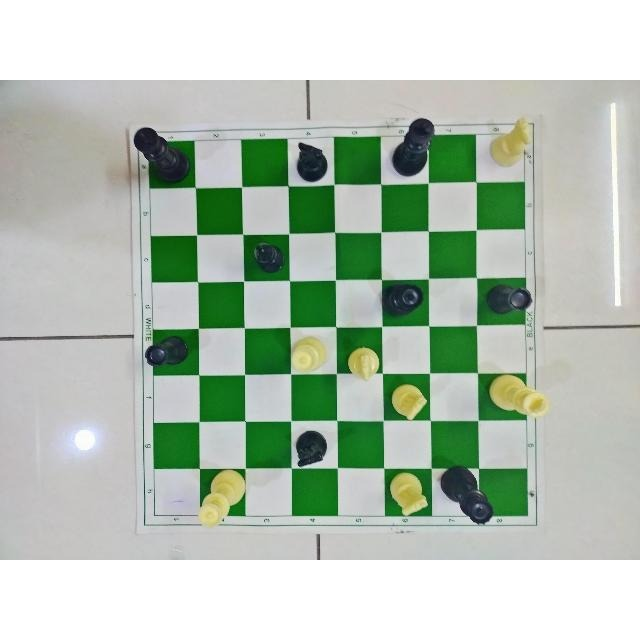black-bishop: (251, 232, 287, 279)
black-king: (128, 121, 193, 190), (387, 108, 441, 182)
black-knight: (286, 136, 333, 187), (292, 426, 334, 470)
black-queen: (433, 460, 498, 532), (381, 276, 431, 324)
black-rook: (142, 330, 194, 376), (479, 281, 534, 319)
white-king: (483, 369, 551, 426)
white-knight: (482, 110, 532, 174), (382, 466, 430, 518), (388, 379, 430, 423), (342, 343, 382, 388)
white-queen: (196, 466, 247, 534), (282, 330, 330, 377)
